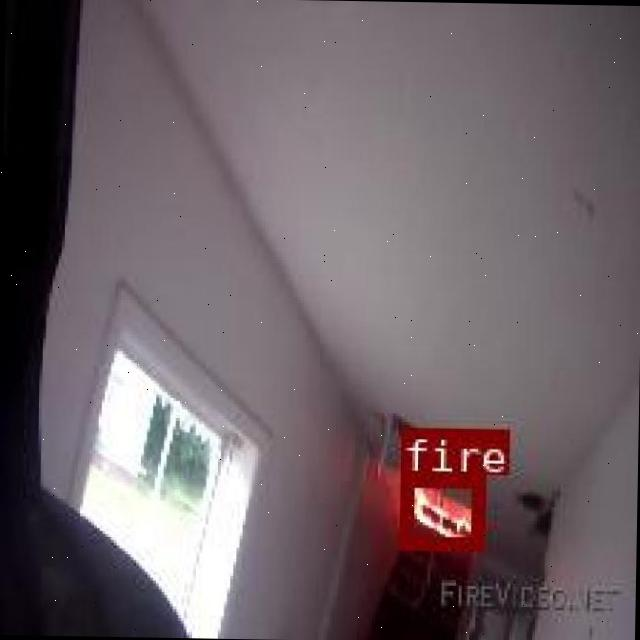fire: (397, 470, 480, 546)
